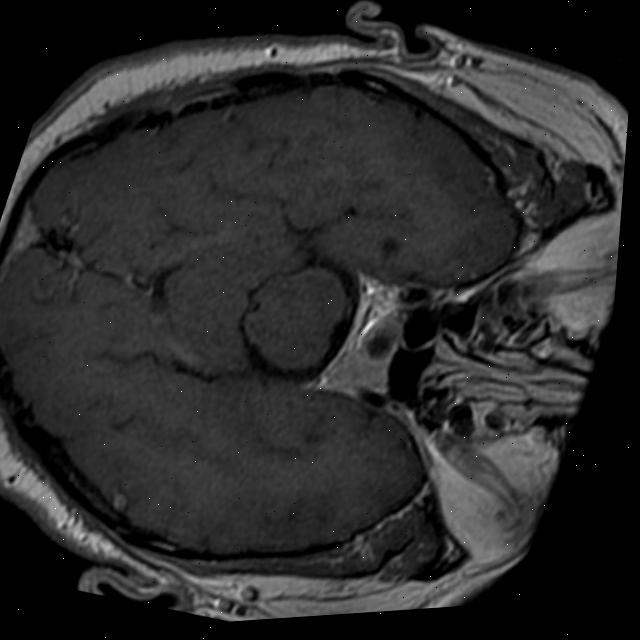Pituitary: (339, 308, 412, 401)
